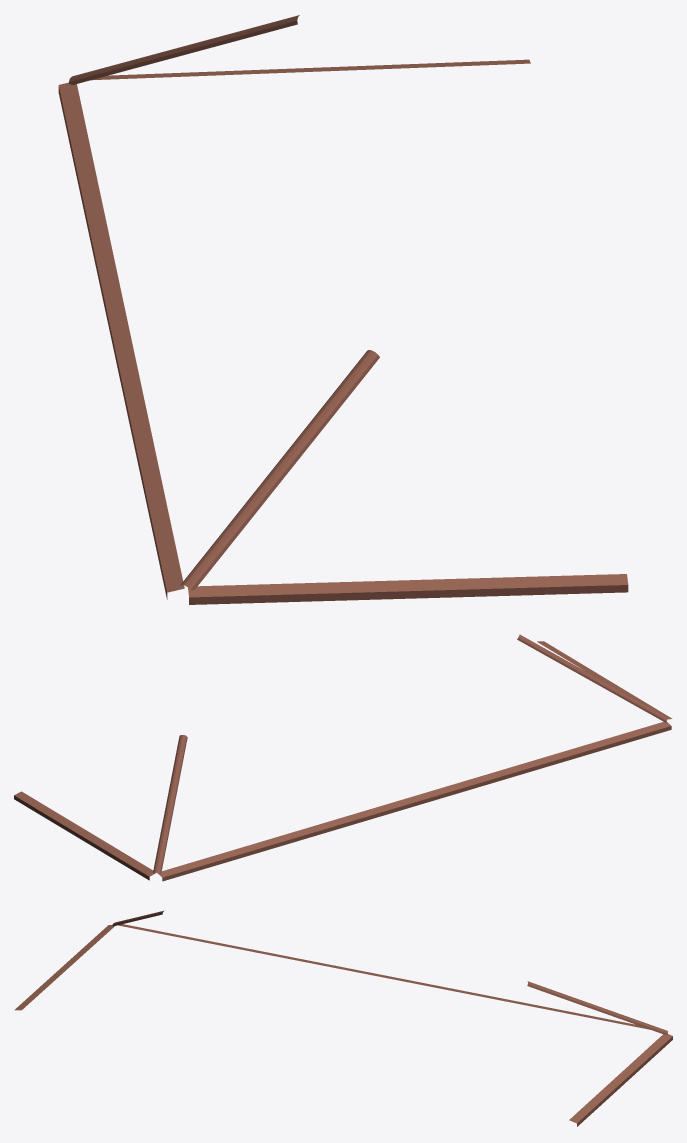
3 views of the same model, one above another, from view 1: azimuth 30°, elevation 25°; view 2: azimuth 150°, elevation 25°; view 3: azimuth 270°, elevation 25° (orthographic). The views are drawn at different scales.
Visible parts, largest first — view 1: detail; view 2: detail; view 3: detail.
Boxes of the visible parts, x1,y1,x2,y2 form: detail: (58, 15, 628, 604); detail: (14, 634, 672, 881); detail: (14, 910, 672, 1126).
Size of the model in its own units: 17.08 by 3.24 by 23.83.
